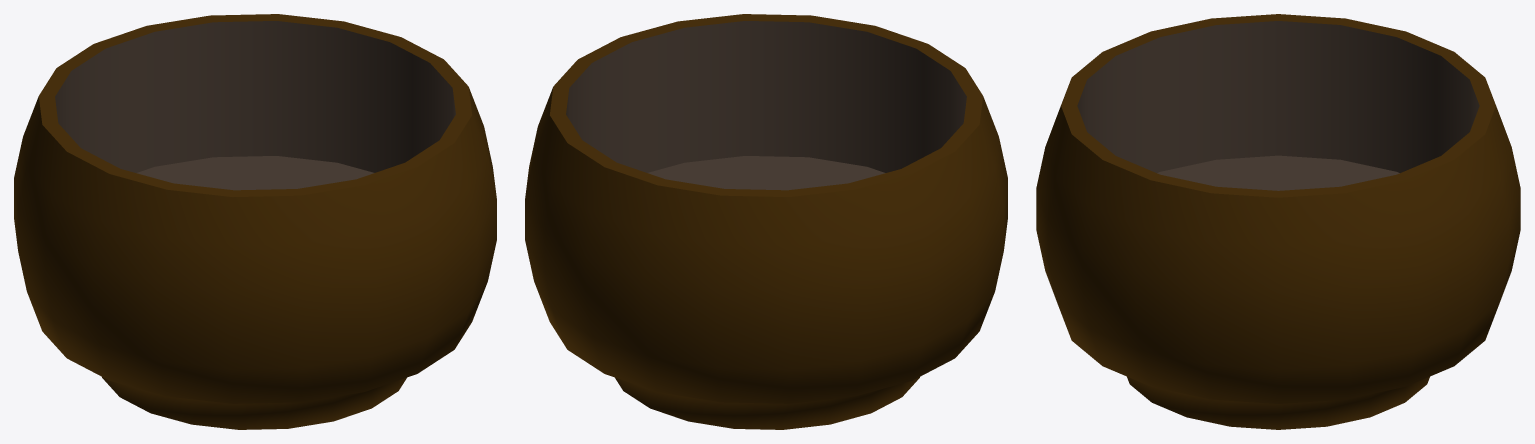
File: tyawan.fbx
3 views of the same model, side by side, from view 1: azimuth 30°, elevation 25°; view 2: azimuth 150°, elevation 25°; view 3: azimuth 270°, elevation 25° (orthographic).
Parts seen in each view (by area): view 1: pCylinder1; view 2: pCylinder1; view 3: pCylinder1.
Part boxes in pixels (left/top/right/bottom): pCylinder1: left=14, top=14, right=496, bottom=429; pCylinder1: left=525, top=14, right=1007, bottom=429; pCylinder1: left=1036, top=14, right=1520, bottom=429.
Size of the model in its own units: 4.52 by 2.65 by 4.52.
